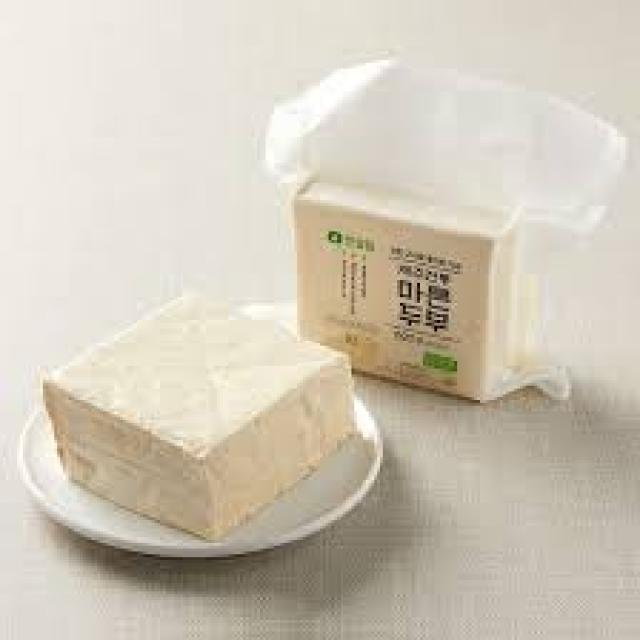tofu: (26, 295, 372, 538)
